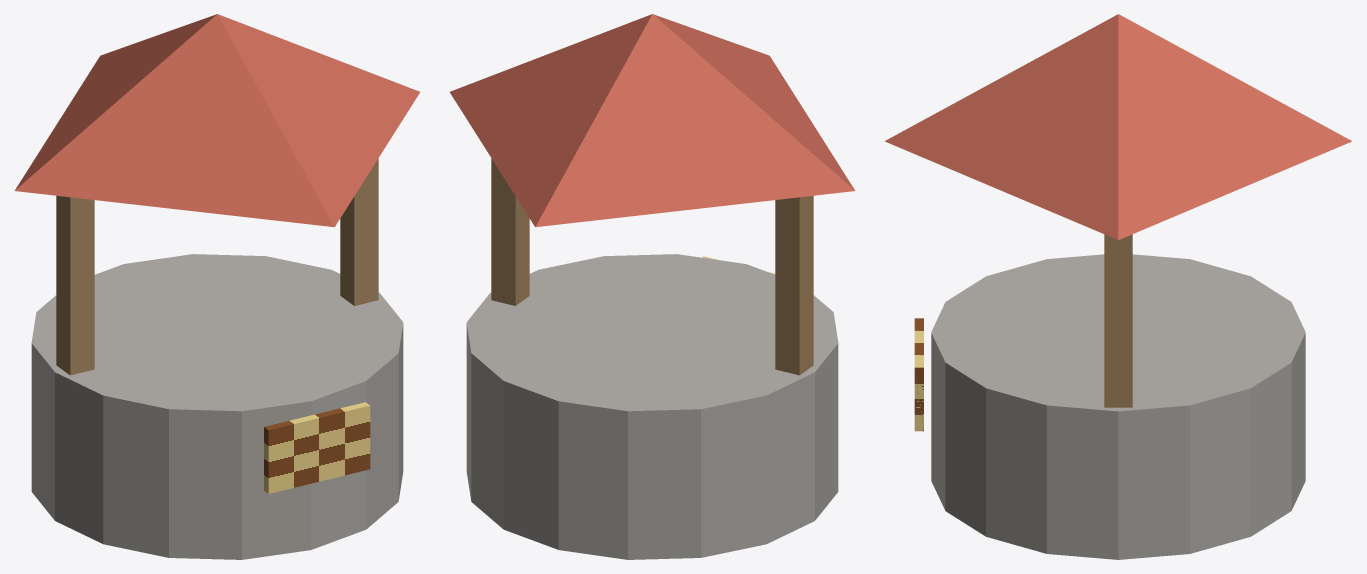
Rendered from stone_well.glb.
The picture shows the model from 3 angles, left to right: view 1: azimuth 30°, elevation 25°; view 2: azimuth 150°, elevation 25°; view 3: azimuth 270°, elevation 25°; orthographic projection.
Visible parts, largest first — view 1: well_ring, well_roof, well_sign, well_post_a, well_post_b; view 2: well_ring, well_roof, well_post_a, well_post_b; view 3: well_ring, well_roof, well_post_b, well_sign.
Part boxes in pixels (x1,y1,x2,y2): well_ring: [31, 254, 403, 559]; well_roof: [14, 14, 419, 227]; well_sign: [264, 402, 370, 493]; well_post_a: [56, 195, 94, 375]; well_post_b: [340, 158, 378, 305]; well_ring: [466, 254, 838, 559]; well_roof: [450, 14, 855, 227]; well_post_a: [775, 195, 813, 375]; well_post_b: [491, 158, 529, 305]; well_ring: [931, 254, 1305, 559]; well_roof: [884, 14, 1352, 239]; well_post_b: [1104, 234, 1132, 407]; well_sign: [914, 318, 923, 431].
Size of the model in its own units: 2 by 2.2 by 2.
Materials: 5 (1 with a texture image).
